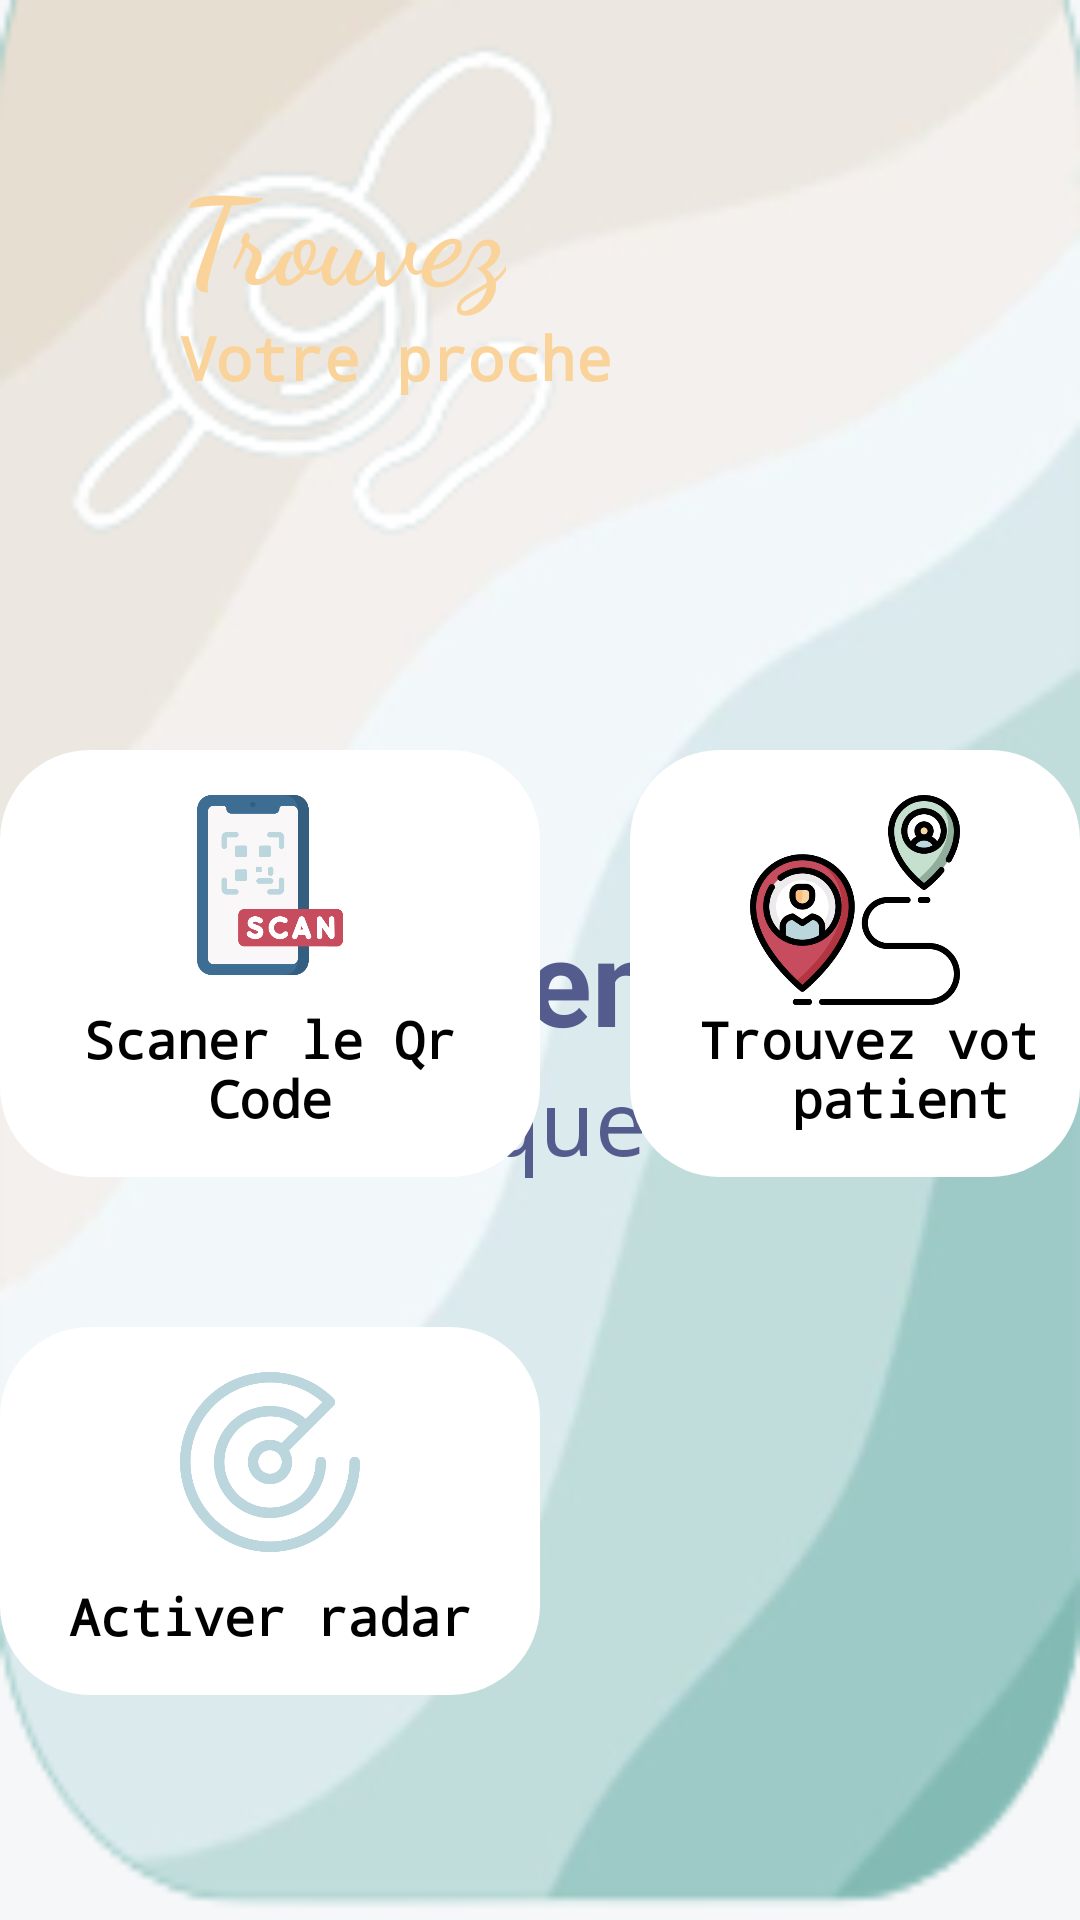

Icons on this 1080w x 1920h Android screen, each with the point to tap as (x,y):
pins: (855,900)
